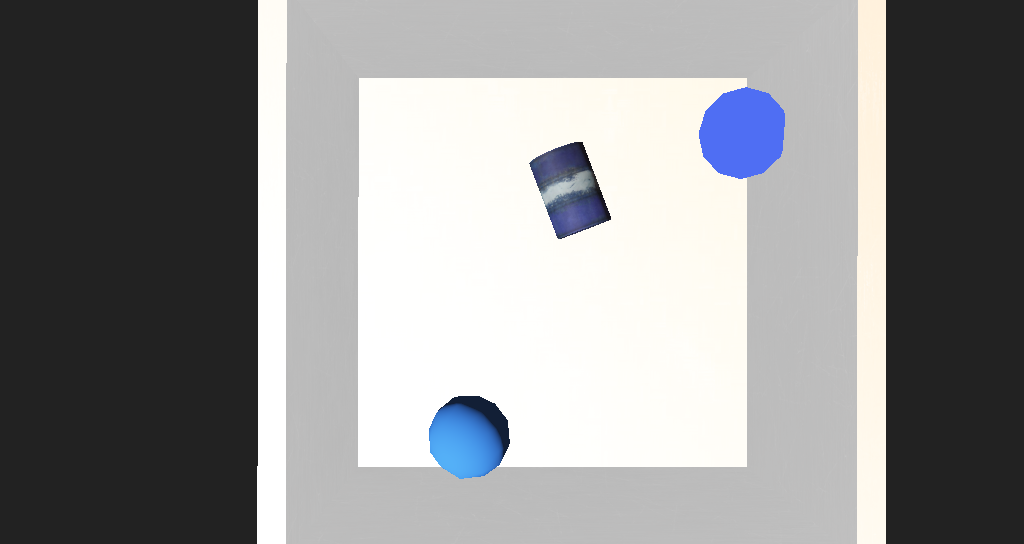cone: (485, 198, 552, 251)
cylinder: (603, 162, 677, 220)
sphere: (404, 336, 472, 379)
